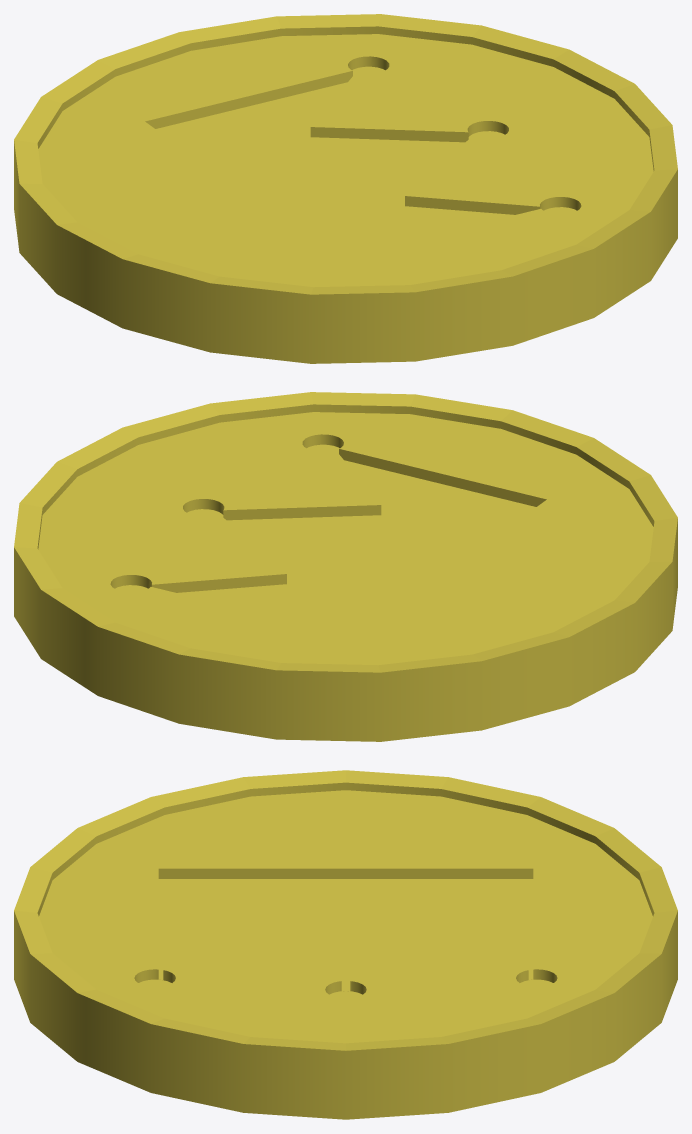
Rendered from CoinModel.fbx.
The picture shows the model from 3 angles, top to bottom: view 1: azimuth 30°, elevation 25°; view 2: azimuth 150°, elevation 25°; view 3: azimuth 270°, elevation 25°; orthographic projection.
Parts seen in each view (by area): view 1: Coin; view 2: Coin; view 3: Coin.
Boxes of the visible parts, box(x1,y1,x2,y2) form: Coin: box(14, 14, 677, 363); Coin: box(14, 392, 677, 741); Coin: box(14, 770, 677, 1119).
Bounding box in the file's own units: 2 × 0.229 × 2.
